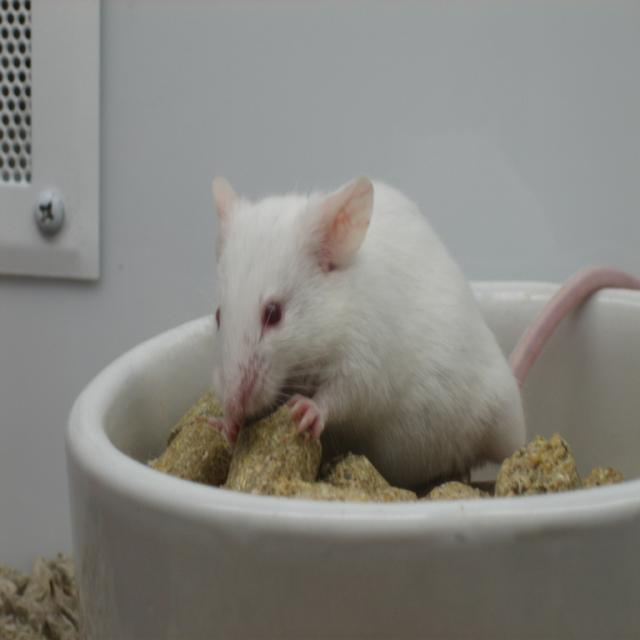rat: (208, 176, 639, 485)
